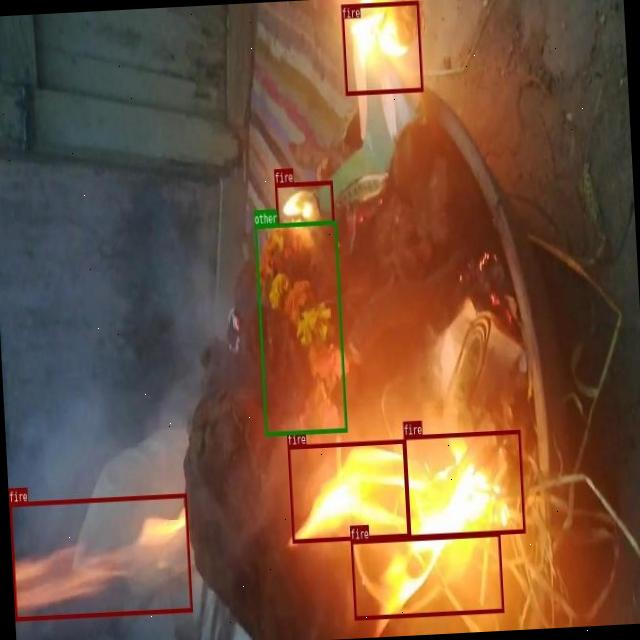fire: (9, 494, 193, 622), (351, 532, 504, 620), (404, 428, 526, 538), (288, 438, 410, 542), (341, 0, 424, 94), (275, 180, 334, 227)
